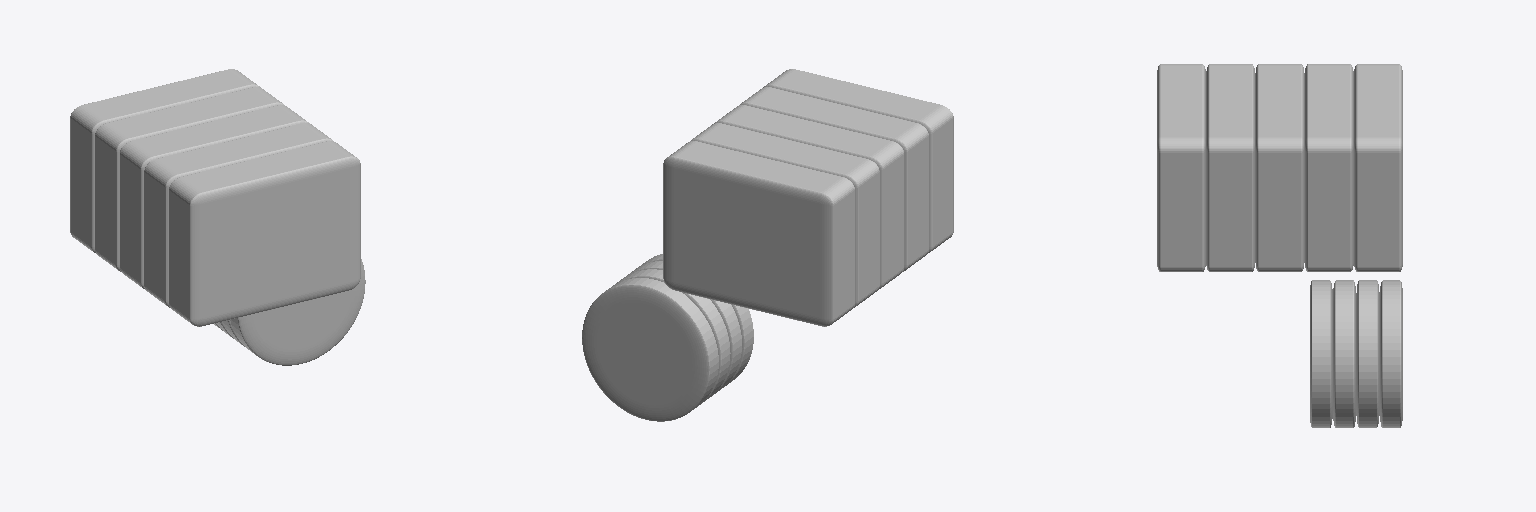
Rendered from servidores.obj.
3 views of the same model, side by side, from view 1: azimuth 30°, elevation 25°; view 2: azimuth 150°, elevation 25°; view 3: azimuth 270°, elevation 25° (orthographic).
Parts seen in each view (by area): view 1: obj_0; view 2: obj_0; view 3: obj_0.
Boxes of the visible parts, x1=… form: obj_0: x1=70, y1=69, x2=365, y2=365; obj_0: x1=582, y1=69, x2=953, y2=421; obj_0: x1=1157, y1=64, x2=1402, y2=427.
Bounding box in the file's own units: 59 × 60.5 × 50.